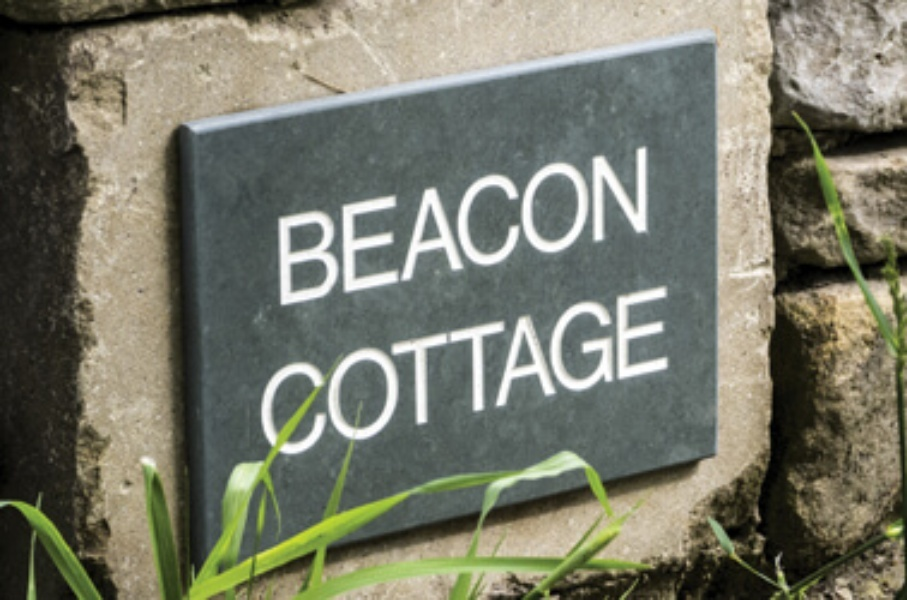text: (257, 281, 272, 464), (273, 281, 288, 464), (289, 281, 304, 464), (305, 281, 320, 464), (321, 281, 336, 464), (337, 281, 352, 464), (353, 281, 368, 464), (369, 281, 384, 464), (385, 281, 400, 464), (401, 281, 416, 464), (417, 281, 432, 464), (433, 281, 448, 464), (449, 281, 464, 464), (465, 281, 480, 464), (481, 281, 496, 464), (497, 281, 512, 464), (513, 281, 528, 464), (529, 281, 544, 464), (545, 281, 560, 464), (561, 281, 576, 464), (577, 281, 592, 464), (593, 281, 608, 464), (609, 281, 624, 464), (625, 281, 640, 464), (641, 281, 656, 464), (657, 281, 672, 464), (289, 142, 304, 308), (305, 142, 320, 308), (321, 142, 336, 308), (337, 142, 352, 308), (353, 142, 368, 308), (369, 142, 384, 308), (385, 142, 400, 308), (401, 142, 416, 308), (417, 142, 432, 308), (433, 142, 448, 308), (449, 142, 464, 308), (465, 142, 480, 308), (481, 142, 496, 308), (497, 142, 512, 308), (513, 142, 528, 308), (529, 142, 544, 308), (545, 142, 560, 308), (561, 142, 576, 308), (577, 142, 592, 308), (593, 142, 608, 308), (609, 142, 624, 308), (625, 142, 640, 308), (276, 142, 288, 308), (641, 142, 653, 308)
